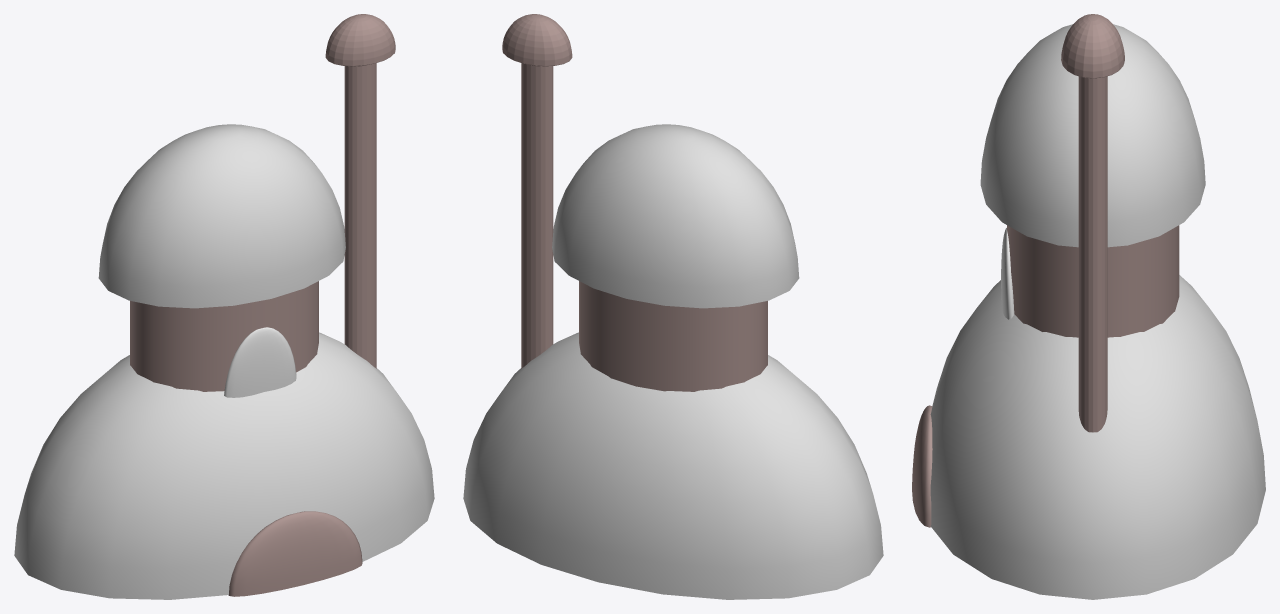
3 renders of one model, left to right at view 1: azimuth 30°, elevation 25°; view 2: azimuth 150°, elevation 25°; view 3: azimuth 270°, elevation 25°, orthographic. The views are drawn at different scales.
Visible parts, largest first — view 1: pSphere8; view 2: pSphere8; view 3: pSphere8.
Part boxes in pixels (left/top/right/bottom): pSphere8: left=14, top=14, right=434, bottom=599; pSphere8: left=463, top=14, right=883, bottom=599; pSphere8: left=912, top=14, right=1265, bottom=599.
Size of the model in its own units: 118 by 137 by 79.94.
